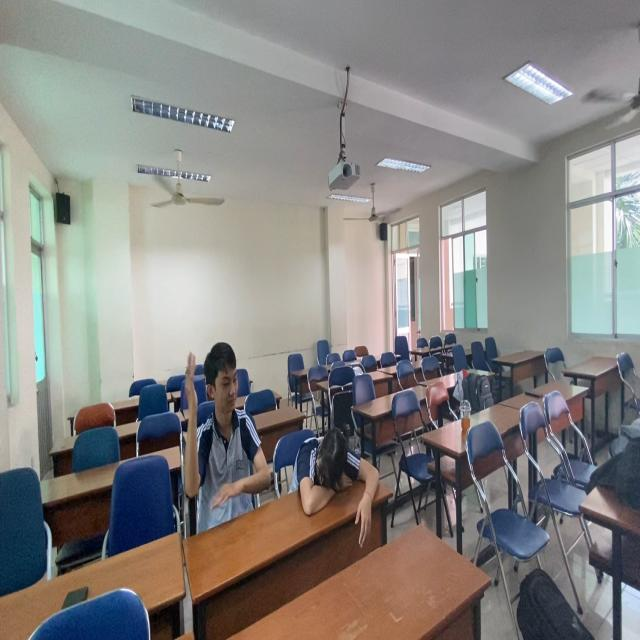raise_hand: (184, 341, 277, 527)
sleep: (295, 424, 381, 536)
